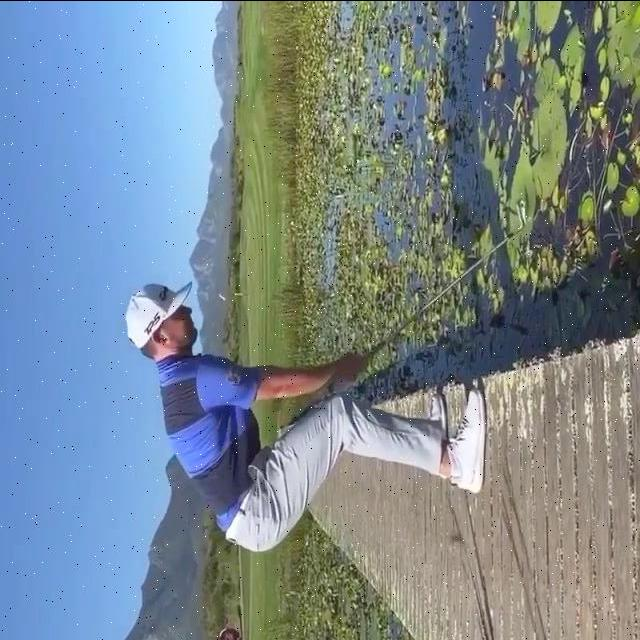golf club-handle: (327, 194, 531, 392)
golf club-head: (516, 197, 527, 224)
